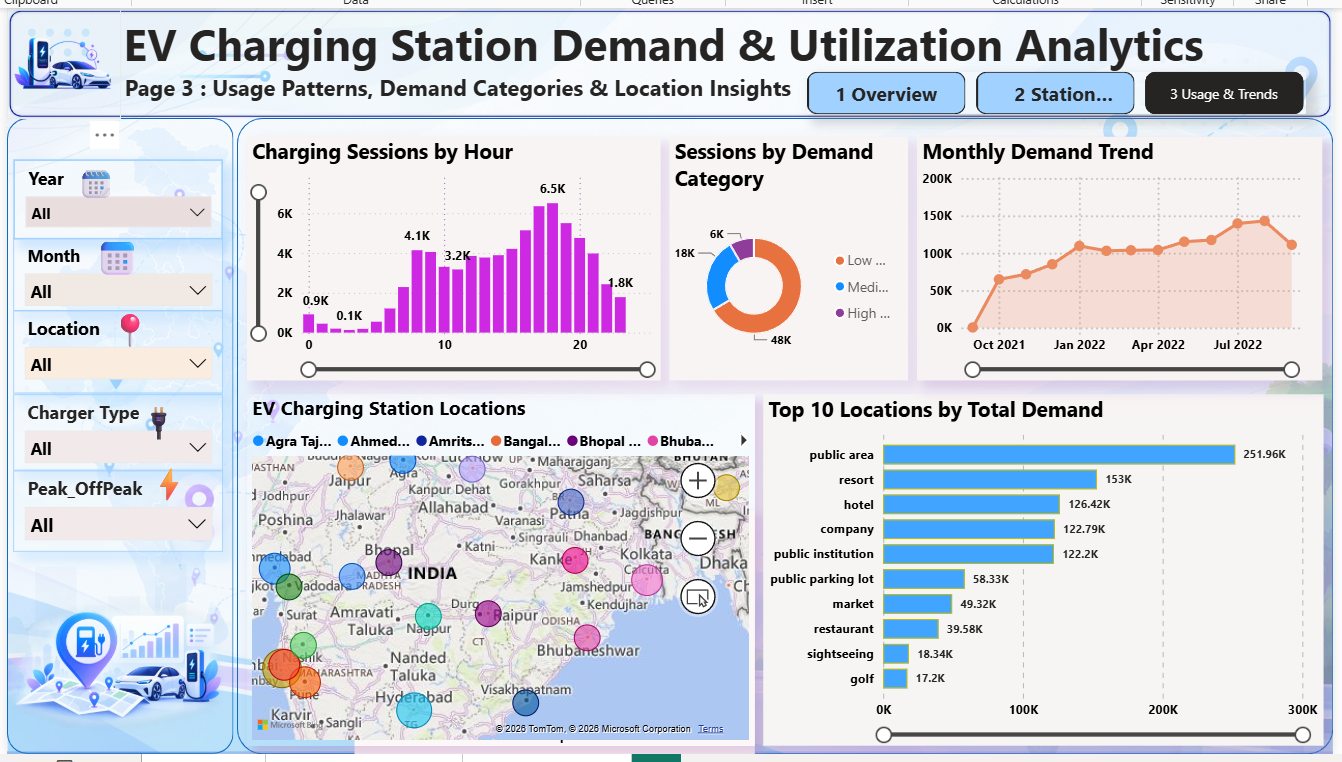

The dashboard page shown, as its layout file describes it:
{"tool":"powerbi","page":{"name":"3 Usage & Trends","canvas":[1280,720],"ordinal":2},"visuals":[{"type":"image","box":[0,0,1280,720.2],"z":0},{"type":"shape","box":[222,106.2,1058,614.1],"z":1000},{"type":"shape","box":[0,106.2,218.8,613.8],"z":2000},{"type":"shape","box":[0,0,1280,107.5],"z":3000},{"type":"textbox","box":[107,0,1104.6,91.9],"z":4000},{"type":"textbox","box":[108.6,56.7,653.9,50.7],"z":5000},{"type":"slicer","fields":{"Values":["EVcharge.Year"]},"box":[6.2,146.2,202.5,77.5],"z":6000},{"type":"slicer","fields":{"Values":["EVcharge.Month"]},"box":[6.3,222.5,202.5,70],"z":7000},{"type":"slicer","fields":{"Values":["EVcharge.Location"]},"box":[6.3,292.5,202.5,80],"z":8000},{"type":"slicer","fields":{"Values":["EVcharge.Charger_type_label"]},"box":[6.3,372.5,202.5,73.8],"z":9000},{"type":"slicer","fields":{"Values":["EVcharge.Peak_OffPeak"]},"box":[6.3,446.2,202.5,78.8],"z":10000},{"type":"pageNavigator","box":[772.1,61.5,481.4,41],"z":11000},{"type":"clusteredColumnChart","title":"Charging Sessions by Hour","fields":{"Y":["EVcharge.Total Session"],"Category":["EVcharge.Start_Hour"]},"box":[231.6,124.3,399.3,235.3],"z":12000},{"type":"donutChart","title":"Sessions by Demand Category","fields":{"Category":["EVcharge.Demand Category"],"Y":["EVcharge.Total Session"]},"box":[639.4,124.3,230.4,235.3],"z":13000},{"type":"lineChart","title":"Monthly Demand Trend","fields":{"Y":["EVcharge.MOM"],"Category":["EVcharge.Month Start"]},"box":[335.4,485,386.1,235.3],"z":14000},{"type":"map","title":"EV Charging Station Locations","fields":{"Series":["charging_stations_india.Station Name"],"X":["Sum(charging_stations_india.Longitude)"],"Y":["Sum(charging_stations_india.Latitude)"],"Category":["charging_stations_india.City"],"Size":["Sum(charging_stations_india.Available Ports)"]},"box":[232,373,490,339],"z":15000},{"type":"clusteredBarChart","title":"Top  10 Locations by Total Demand","fields":{"Y":["EVcharge.Total Demand"],"Category":["EVcharge.Location"]},"box":[729.9,372.8,540.5,339],"z":16000},{"type":"textbox","box":[130,432.5,52.5,53.8],"z":17000},{"type":"textbox","box":[120,372.5,52.5,53.8],"z":18000},{"type":"textbox","box":[91.2,283.8,56.2,61.2],"z":19000},{"type":"textbox","box":[80,213.8,56.2,56.2],"z":20000},{"type":"textbox","box":[62.5,146.2,56.2,55],"z":21000},{"type":"image","box":[0,0,109.8,107.4],"z":22000},{"type":"image","box":[0,550.1,208.7,170.1],"z":23000},{"type":"lineChart","title":"Monthly Demand Trend","fields":{"Y":["EVcharge.Total Demand"],"Category":["EVcharge.Start_datetime.Variation.Date Hierarchy.Year","EVcharge.Start_datetime.Variation.Date Hierarchy.Month"]},"box":[878.3,124.3,390.9,235.3],"z":24000}]}

Visuals, with their boxes on the page's 1280x720 design canvas (x1, y1, x2, y2). These are canvas units, not pixel positions in the 1342x762 screenshot, which may show the page scaled, cropped or inside an application window:
image: l=0, t=0, r=1280, b=720
shape: l=222, t=106, r=1280, b=720
shape: l=0, t=106, r=219, b=720
shape: l=0, t=0, r=1280, b=108
textbox: l=107, t=0, r=1212, b=92
textbox: l=109, t=57, r=762, b=107
slicer - EVcharge.Year: l=6, t=146, r=209, b=224
slicer - EVcharge.Month: l=6, t=222, r=209, b=292
slicer - EVcharge.Location: l=6, t=292, r=209, b=372
slicer - EVcharge.Charger_type_label: l=6, t=372, r=209, b=446
slicer - EVcharge.Peak_OffPeak: l=6, t=446, r=209, b=525
pageNavigator: l=772, t=62, r=1254, b=102
"Charging Sessions by Hour" clusteredColumnChart: l=232, t=124, r=631, b=360
"Sessions by Demand Category" donutChart: l=639, t=124, r=870, b=360
"Monthly Demand Trend" lineChart: l=335, t=485, r=722, b=720
"EV Charging Station Locations" map: l=232, t=373, r=722, b=712
"Top  10 Locations by Total Demand" clusteredBarChart: l=730, t=373, r=1270, b=712
textbox: l=130, t=432, r=182, b=486
textbox: l=120, t=372, r=172, b=426
textbox: l=91, t=284, r=147, b=345
textbox: l=80, t=214, r=136, b=270
textbox: l=62, t=146, r=119, b=201
image: l=0, t=0, r=110, b=107
image: l=0, t=550, r=209, b=720
"Monthly Demand Trend" lineChart: l=878, t=124, r=1269, b=360
